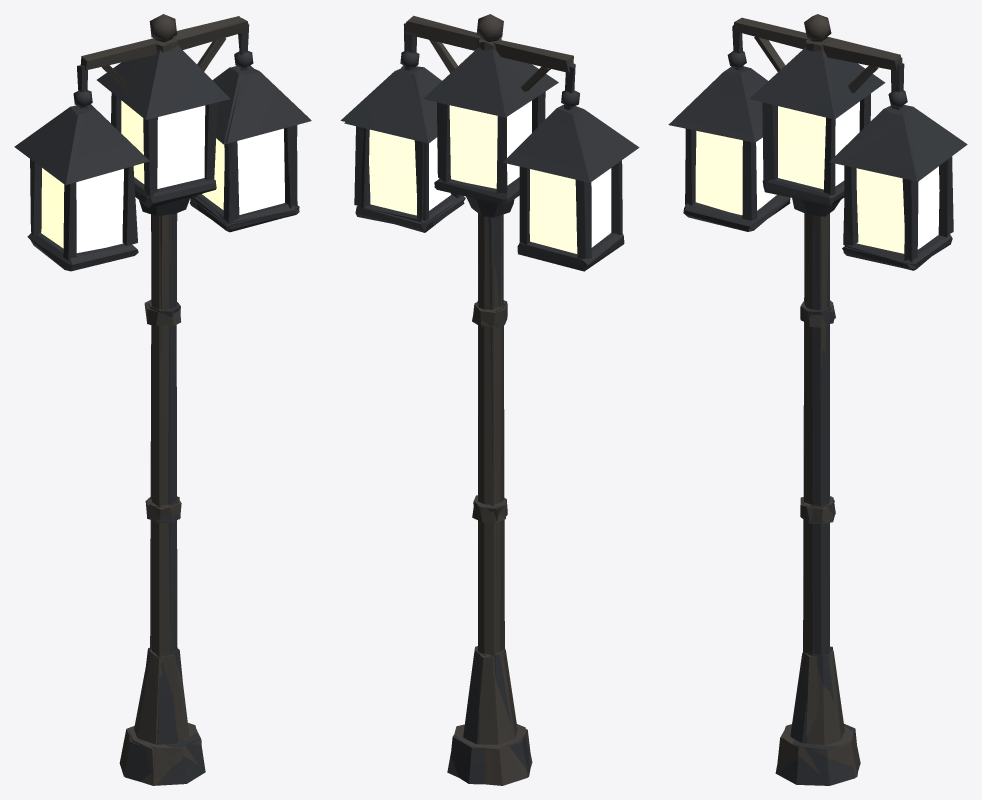
File: lamp.glb
3 views of the same model, side by side, from view 1: azimuth 30°, elevation 25°; view 2: azimuth 150°, elevation 25°; view 3: azimuth 330°, elevation 25° (orthographic).
Visible parts, largest first — view 1: lamp.v2.mesh, lamp.v1.mesh, lamp.v0.mesh; view 2: lamp.v2.mesh, lamp.v0.mesh, lamp.v1.mesh; view 3: lamp.v2.mesh, lamp.v1.mesh, lamp.v0.mesh.
Part boxes in pixels (bbox=[...]): lamp.v2.mesh: bbox=[14, 14, 310, 775]; lamp.v1.mesh: bbox=[97, 37, 230, 785]; lamp.v0.mesh: bbox=[119, 16, 311, 785]; lamp.v2.mesh: bbox=[340, 14, 639, 777]; lamp.v0.mesh: bbox=[344, 14, 532, 785]; lamp.v1.mesh: bbox=[423, 37, 558, 784]; lamp.v2.mesh: bbox=[668, 14, 967, 774]; lamp.v1.mesh: bbox=[749, 37, 885, 785]; lamp.v0.mesh: bbox=[775, 14, 952, 777].
Bounding box in the file's own units: 0.9304 × 2.69 × 0.3331.
